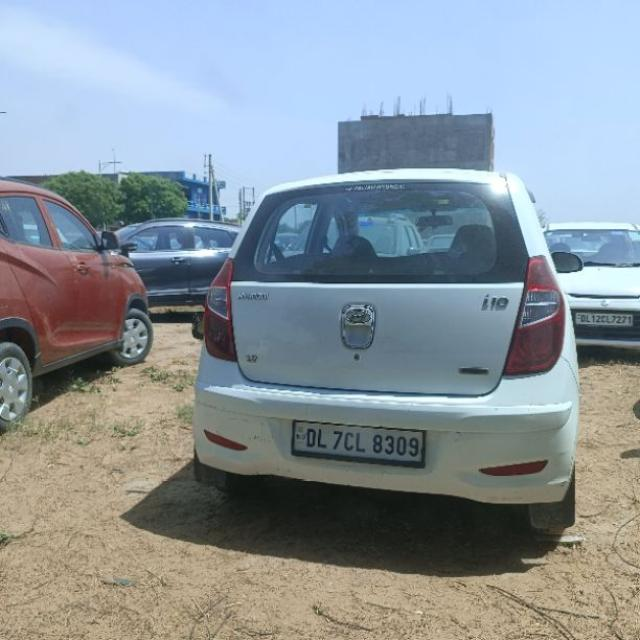license_plate: (290, 418, 426, 466), (572, 308, 635, 328)
